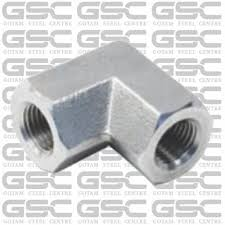Thread: (146, 117, 208, 176), (14, 100, 67, 161)
